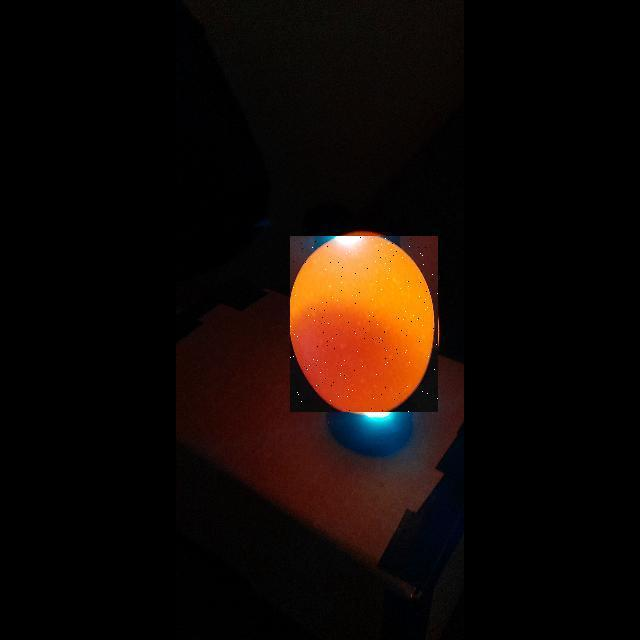Inedible: (281, 226, 451, 418)
